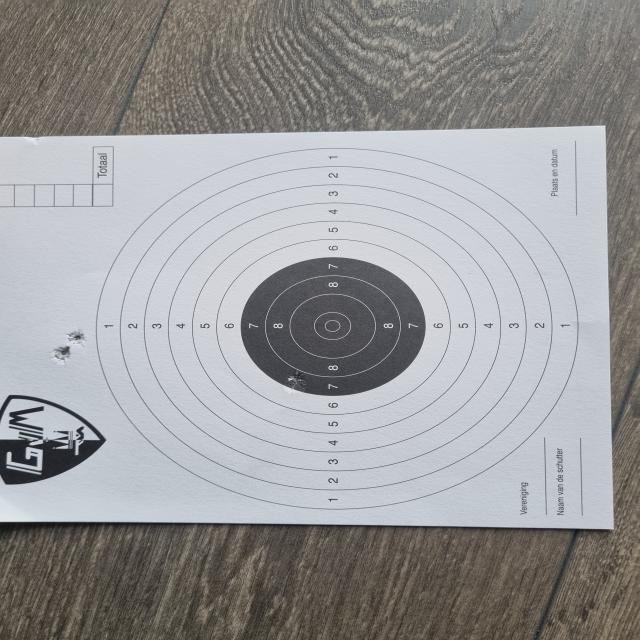8: (286, 371, 308, 391)
Black Contour: (242, 258, 424, 397)
Target: (94, 150, 580, 510)
hole: (49, 346, 76, 364), (66, 329, 88, 347)
